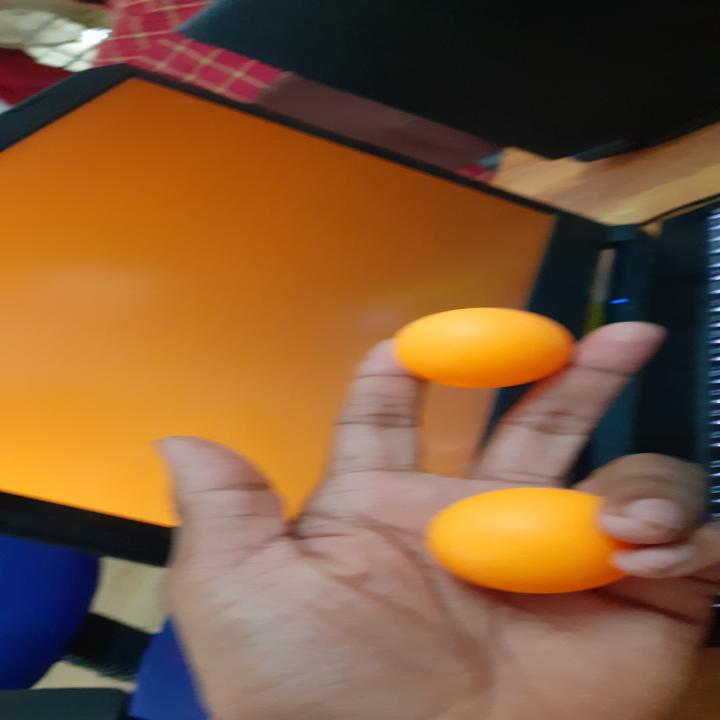orange: (424, 485, 626, 596), (403, 305, 582, 388)
